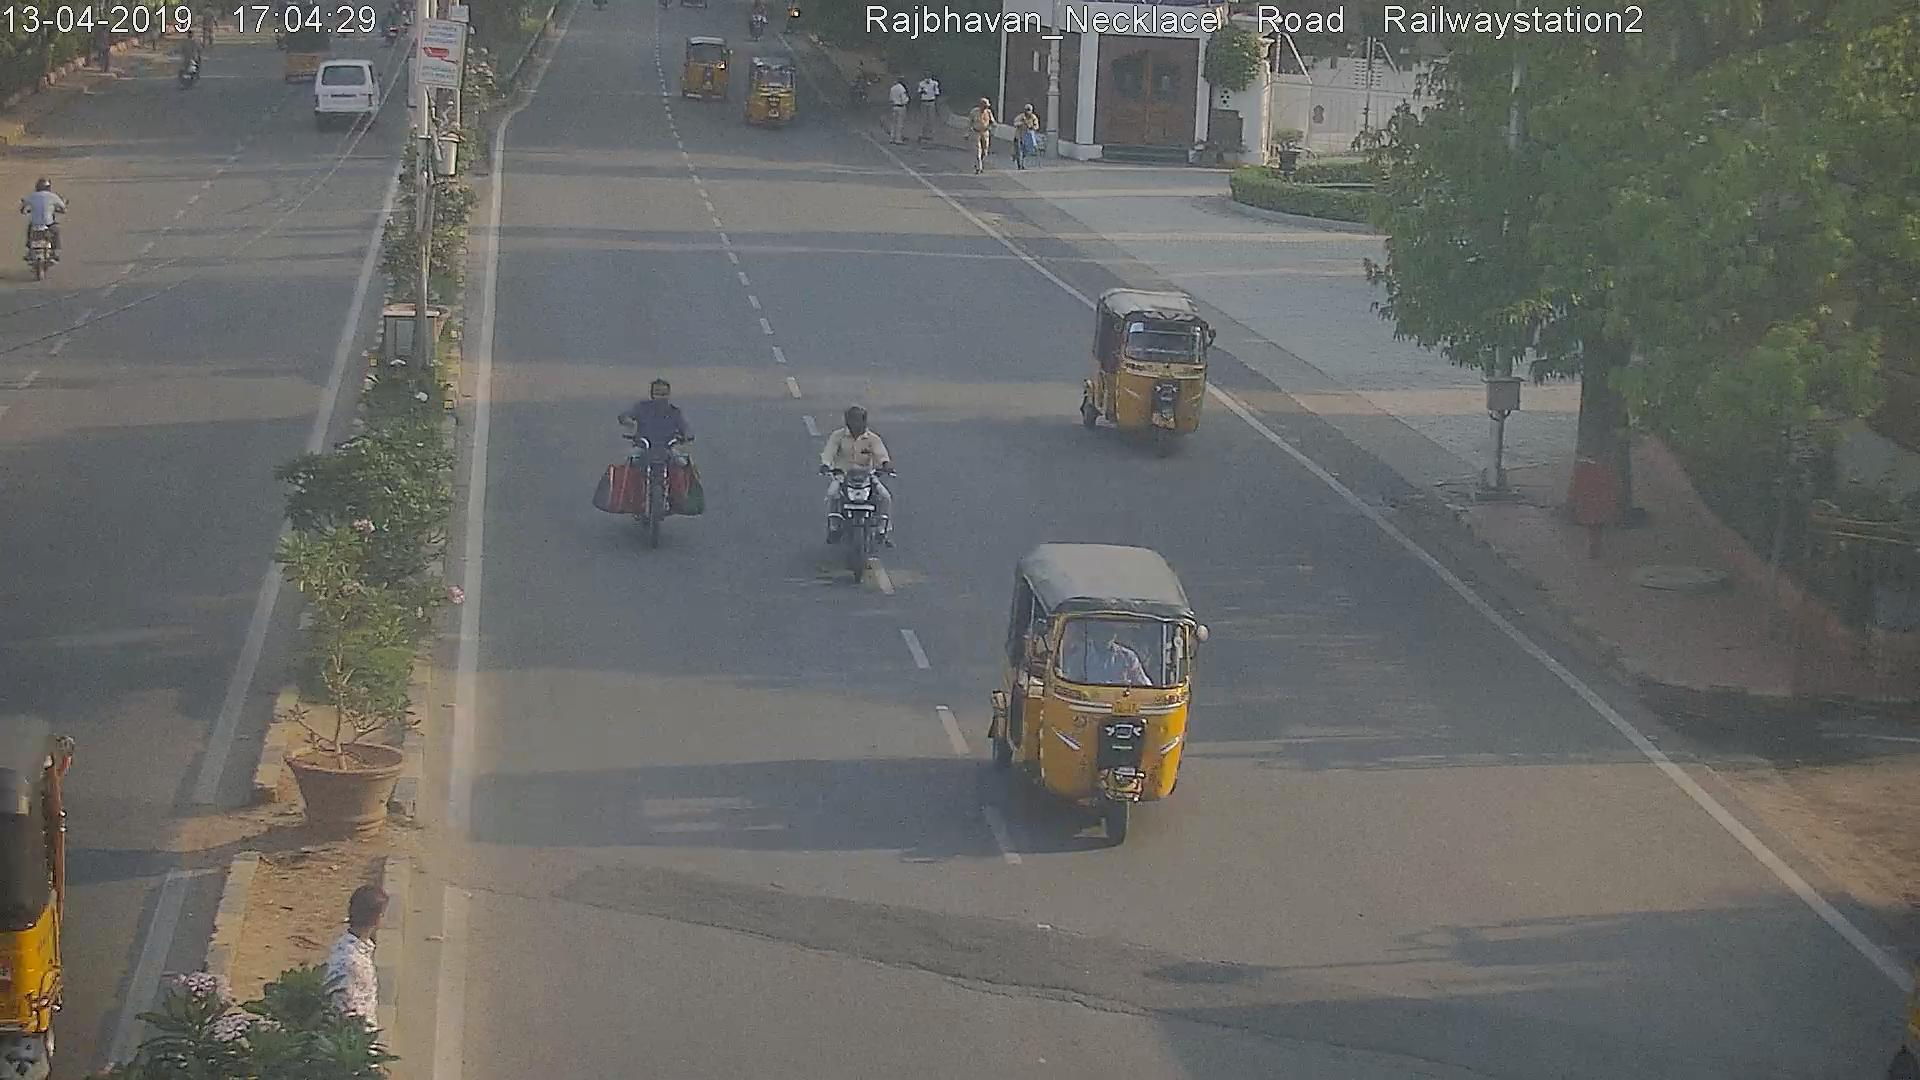2Wheeler: (818, 402, 891, 579), (617, 375, 688, 551), (22, 175, 66, 277)
